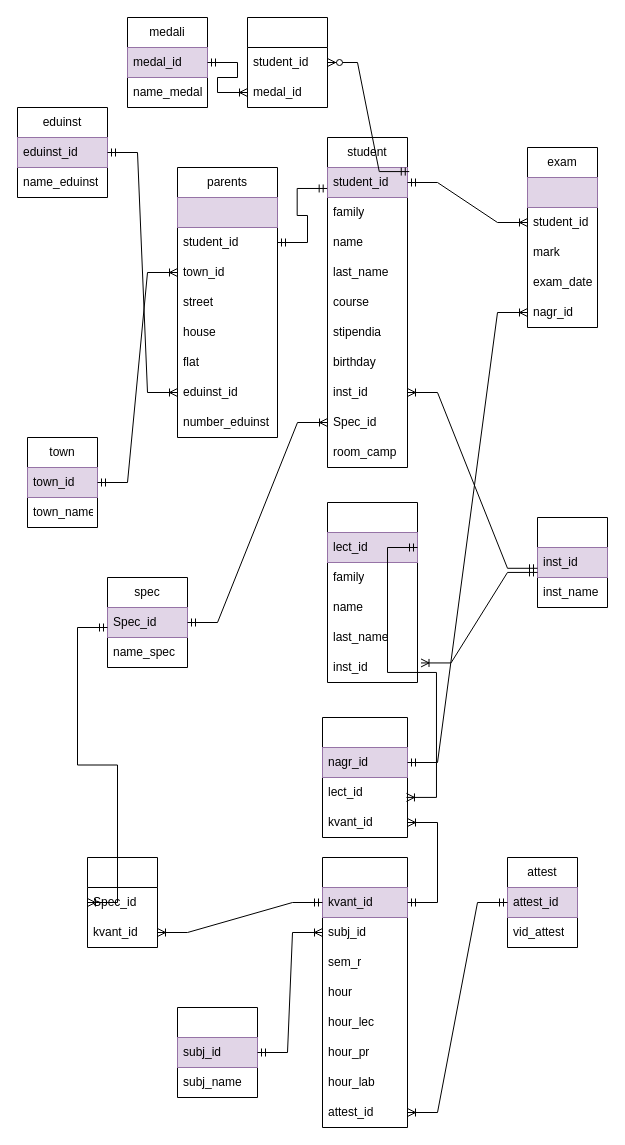
This 625x1145 diagram has some shape labels left out. Each missing label, with the box of its shape:
exam_id: (526, 176, 598, 208)
institute: (536, 516, 608, 608)
knowledge: (322, 856, 408, 1128)
lecturer: (326, 502, 418, 682)
medalist: (246, 16, 328, 108)
nagruzka: (322, 716, 408, 838)
parent_id: (176, 196, 278, 228)
subject: (176, 1006, 258, 1098)
uch_plan: (86, 856, 158, 948)
